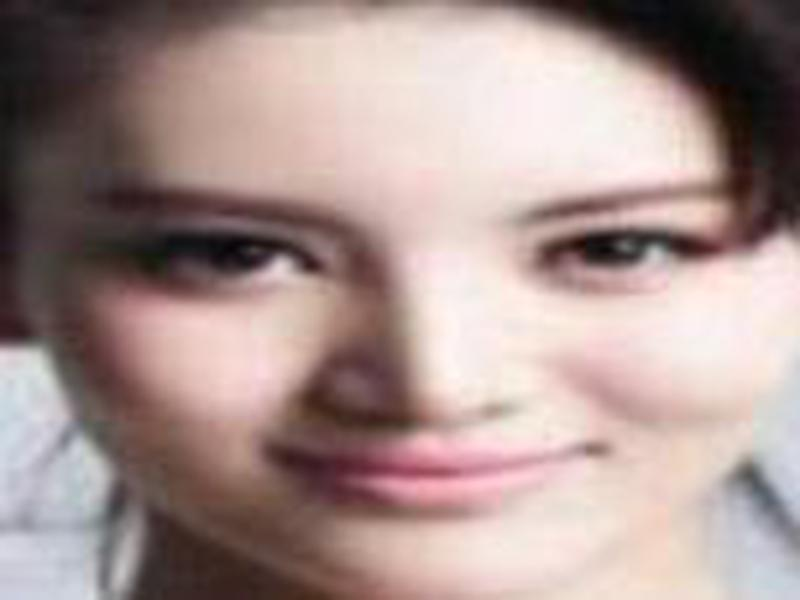without_mask: (21, 65, 787, 589)
